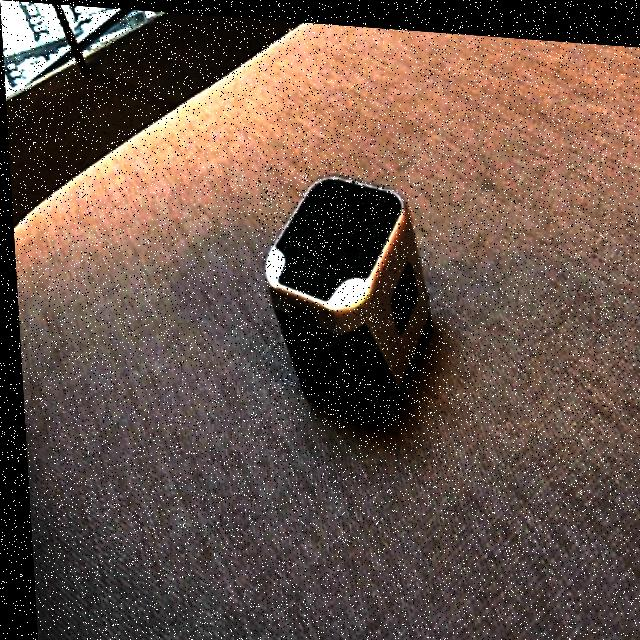adapter: (255, 163, 433, 425)
